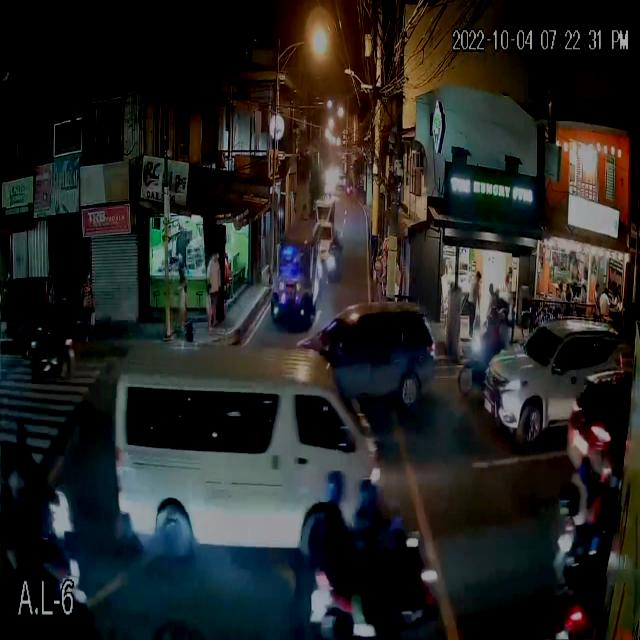Full-Faced: (354, 474, 382, 514), (324, 463, 347, 502)
